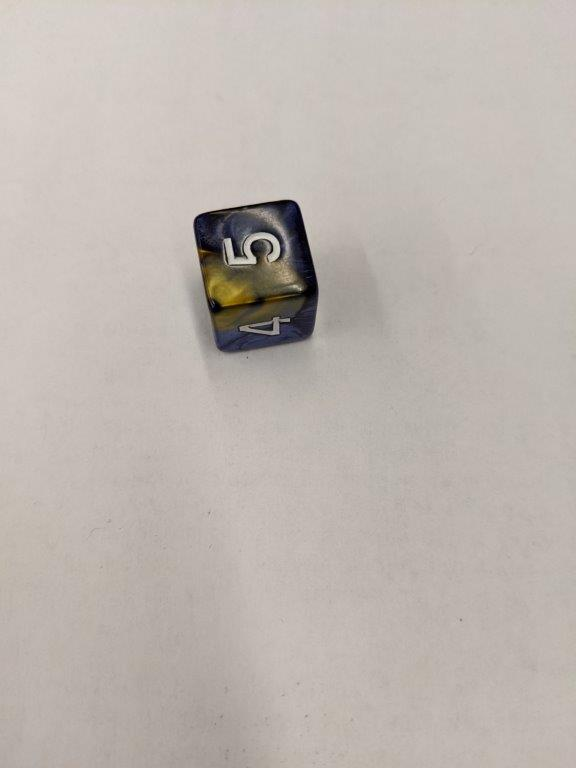d6-5: (195, 195, 318, 354)
